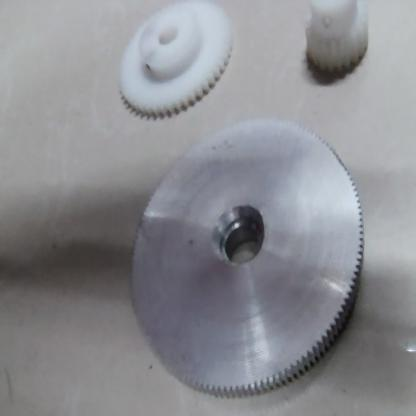FOD: (126, 122, 365, 403), (117, 0, 241, 123), (306, 0, 375, 78)
